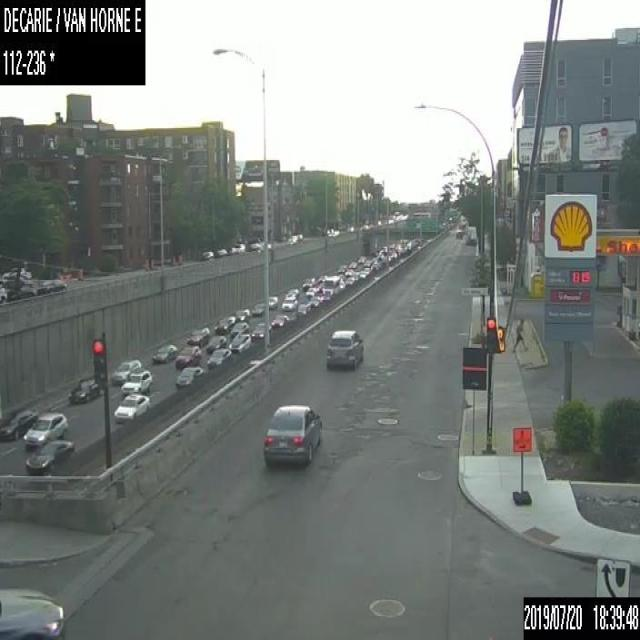bus: (322, 275, 340, 295)
construction: (510, 424, 531, 501)
pedestrian: (512, 317, 527, 351)
vehicle: (262, 403, 321, 464), (0, 586, 65, 638), (24, 439, 73, 474), (324, 327, 364, 368), (23, 412, 67, 447), (0, 406, 37, 438), (112, 393, 150, 423), (120, 367, 152, 395), (69, 376, 101, 404), (110, 359, 140, 382), (34, 274, 67, 294), (174, 344, 200, 368), (175, 366, 202, 389), (5, 279, 35, 298), (206, 347, 231, 368), (186, 326, 210, 346), (152, 343, 177, 362), (228, 333, 251, 353), (250, 322, 270, 341), (205, 334, 226, 351), (2, 266, 30, 278), (228, 321, 249, 337), (271, 312, 288, 328), (213, 318, 231, 332), (464, 224, 476, 244), (233, 307, 249, 321), (281, 296, 297, 310), (246, 236, 262, 249), (251, 302, 264, 315), (314, 288, 324, 304), (301, 276, 314, 288), (285, 287, 298, 298), (230, 242, 244, 252), (268, 295, 277, 309), (296, 302, 306, 314), (308, 296, 319, 306), (337, 263, 347, 274), (201, 250, 213, 259), (305, 286, 315, 296), (344, 276, 354, 285), (287, 235, 296, 244), (216, 247, 226, 255), (370, 262, 378, 271), (358, 269, 366, 277), (455, 228, 462, 237), (316, 282, 323, 291), (356, 255, 365, 262), (319, 273, 326, 281), (344, 268, 352, 275), (363, 266, 370, 274), (348, 261, 356, 268), (295, 233, 302, 240), (338, 273, 344, 281), (353, 272, 358, 281), (364, 260, 371, 266), (339, 280, 344, 288)
